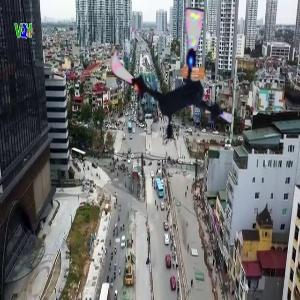drone: (102, 6, 246, 150)
